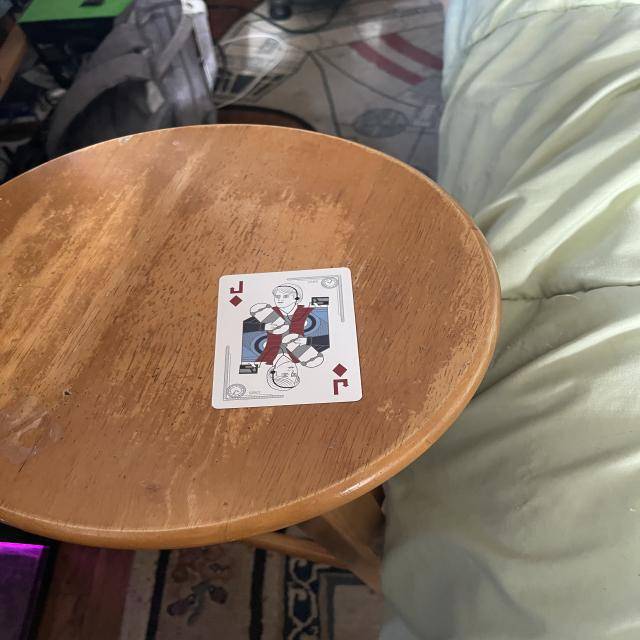Jack of diamonds: (213, 269, 358, 404)
